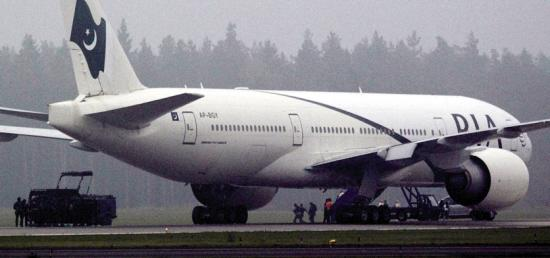airplane: (1, 1, 547, 227)
